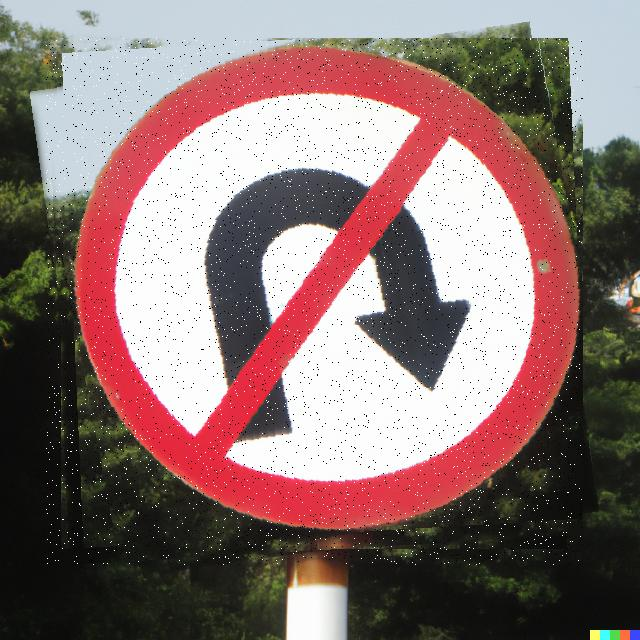no u turn: (46, 38, 583, 565)
